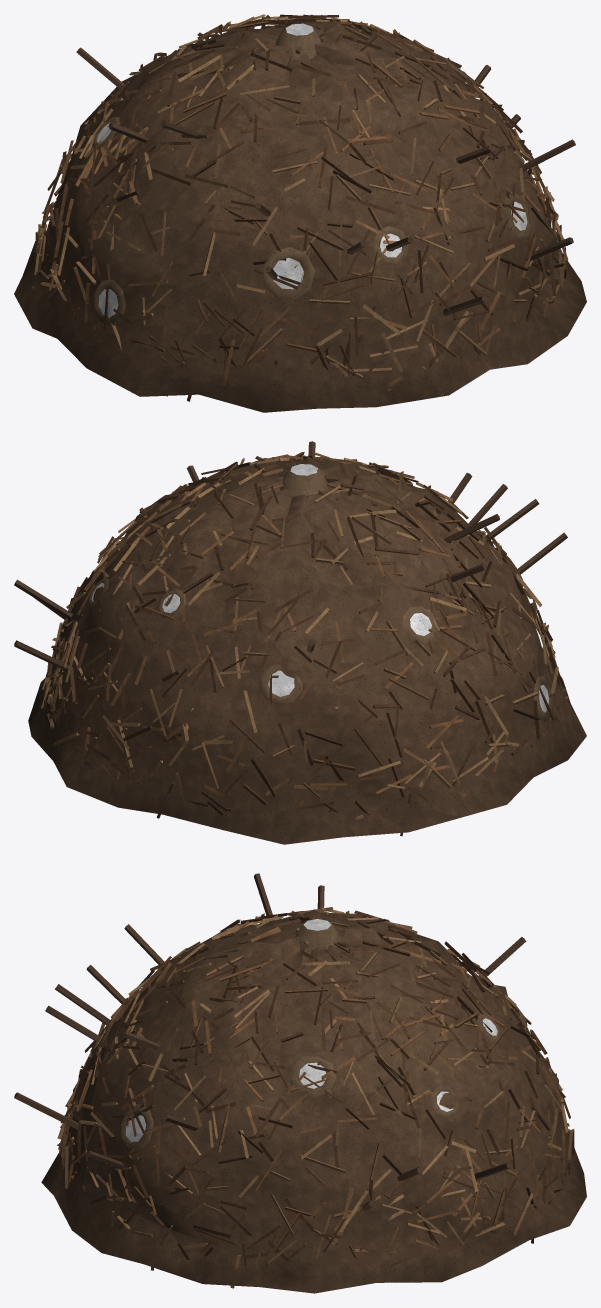
Rendered from gang_colonie_1.glb.
3 views of the same model, one above another, from view 1: azimuth 30°, elevation 25°; view 2: azimuth 150°, elevation 25°; view 3: azimuth 270°, elevation 25° (orthographic). The views are drawn at different scales.
Visible parts, largest first — view 1: habitat_colonie; view 2: habitat_colonie; view 3: habitat_colonie.
Part boxes in pixels (x1=…): habitat_colonie: x1=14, y1=14, x2=586, y2=412; habitat_colonie: x1=14, y1=441, x2=586, y2=844; habitat_colonie: x1=14, y1=873, x2=586, y2=1293.
Size of the model in its own units: 54.33 by 28.66 by 56.69.
7 materials, 7 textured.
